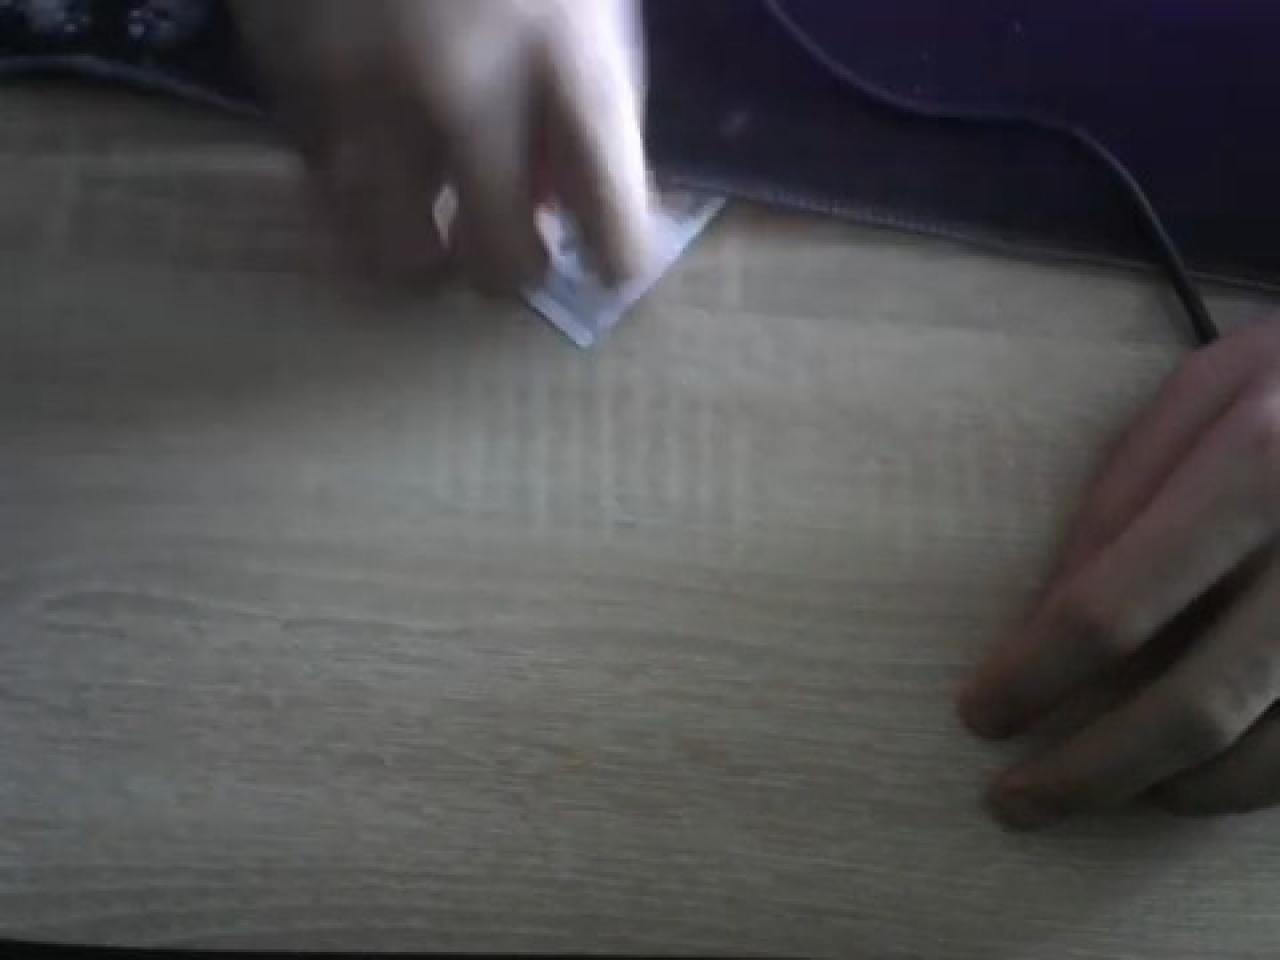20leva: (360, 0, 717, 347)
